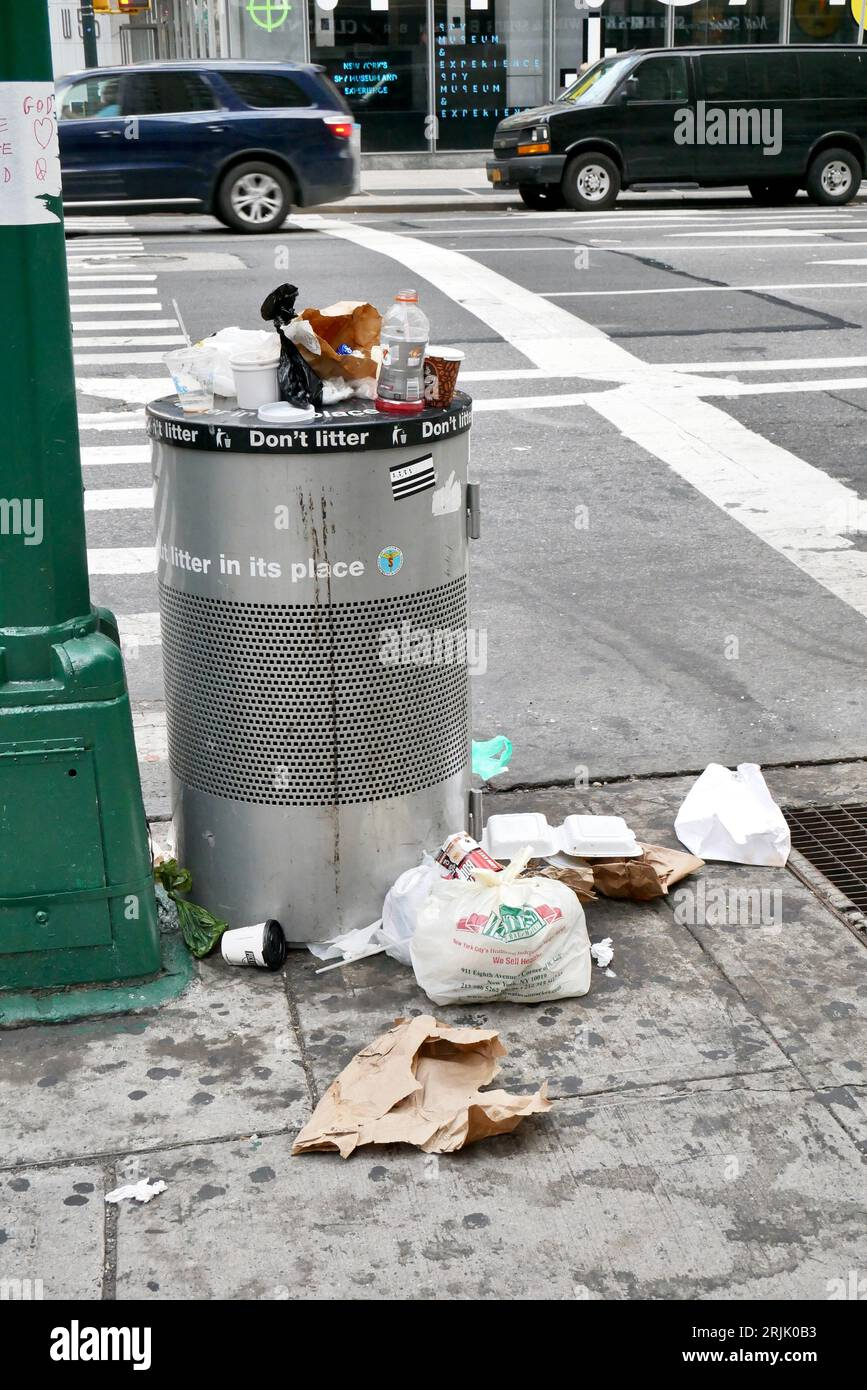Car: (482, 40, 867, 215), (54, 36, 372, 232)
Crosswalk: (69, 213, 181, 380)
TrashBin: (129, 300, 520, 951)
